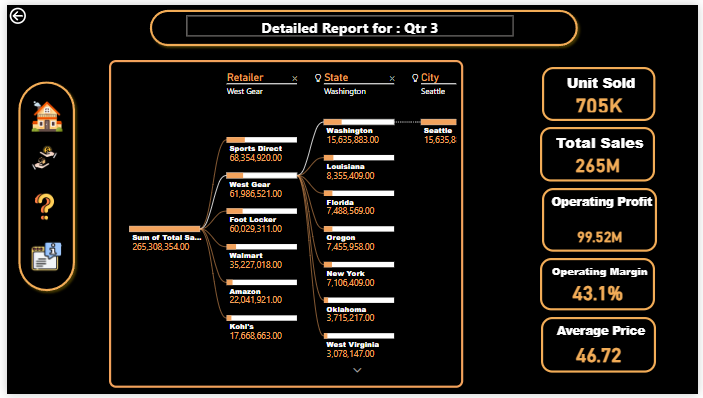

This screenshot's page, from the dashboard's own definition file:
{"tool":"powerbi","page":{"name":"Why & Deep Dive","canvas":[1280,720],"ordinal":2},"visuals":[{"type":"actionButton","box":[0,0,100,40],"z":0},{"type":"shape","box":[12,131.6,124.8,408.4],"z":1000},{"type":"decompositionTreeVisual","fields":{"Analyze":["Sum(Table1.Total Sales)"],"ExplainBy":["Table1.Retailer","Table1.State","Table1.City","Table1.Region"]},"box":[189.7,102.5,656.2,606.7],"z":2000},{"type":"image","box":[38.8,244.8,61.2,77.6],"z":3000},{"type":"image","box":[40.3,165.7,67.2,82.1],"z":4000},{"type":"image","box":[295.6,13.7,107.7,47.9],"z":5000},{"type":"shape","box":[255.2,0,810.4,85.1],"z":6000},{"type":"actionButton","box":[331.3,17.9,607.5,40.3],"z":7000},{"type":"card","title":"Unit Sold","fields":{"Values":["Sum(Table1.Units Sold)"]},"box":[991,114.9,210.4,100],"z":8000},{"type":"card","title":"Total Sales","fields":{"Values":["Sum(Table1.Total Sales)"]},"box":[986.6,226.5,213.4,101.5],"z":9000},{"type":"card","title":"Operating Profit ","fields":{"Values":["Sum(Table1.Operating Profit)"]},"box":[989.9,339.6,213.4,117.9],"z":10000},{"type":"card","title":"Operating Margin ","fields":{"Values":["Avg(Table1.Operating Margin)"]},"box":[987.7,469,213.4,97],"z":11000},{"type":"card","title":"Average Price","fields":{"Values":["Avg(Table1.Price per Unit)"]},"box":[988.8,577.6,213.4,103],"z":12000},{"type":"image","box":[38.3,428,68,76.5],"z":13000},{"type":"image","box":[38.3,340.2,60.9,65.2],"z":14000}]}

Visuals, with their boxes in screenshot pixels (x1, y1, x2, y2), scaled from the page's 1280x720 canvas onto the 703x398 screenshot:
actionButton: <box>0,0,55,22</box>
shape: <box>7,73,75,298</box>
decompositionTreeVisual - Sum(Table1.Total Sales) x Table1.Retailer: <box>104,57,465,392</box>
image: <box>21,135,55,178</box>
image: <box>22,92,59,137</box>
image: <box>162,8,221,34</box>
shape: <box>140,0,585,47</box>
actionButton: <box>182,10,516,32</box>
"Unit Sold" card: <box>544,64,660,119</box>
"Total Sales" card: <box>542,125,659,181</box>
"Operating Profit " card: <box>544,188,661,253</box>
"Operating Margin " card: <box>542,259,660,313</box>
"Average Price" card: <box>543,319,660,376</box>
image: <box>21,237,58,279</box>
image: <box>21,188,54,224</box>
